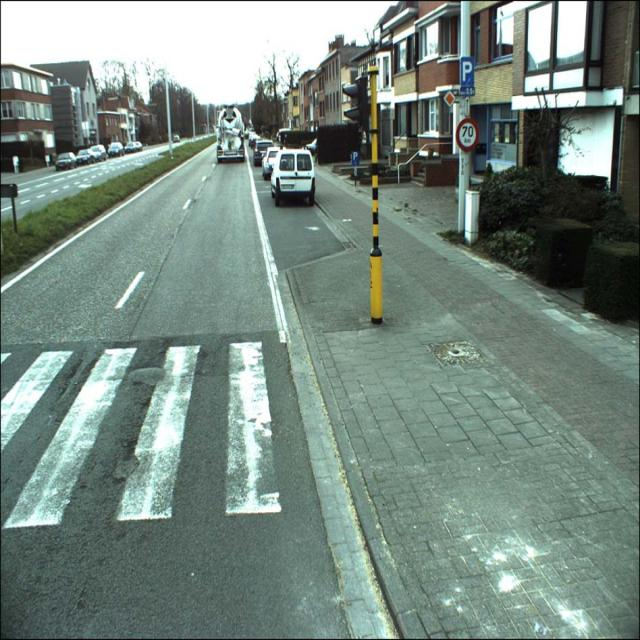park: (460, 57, 474, 86)
